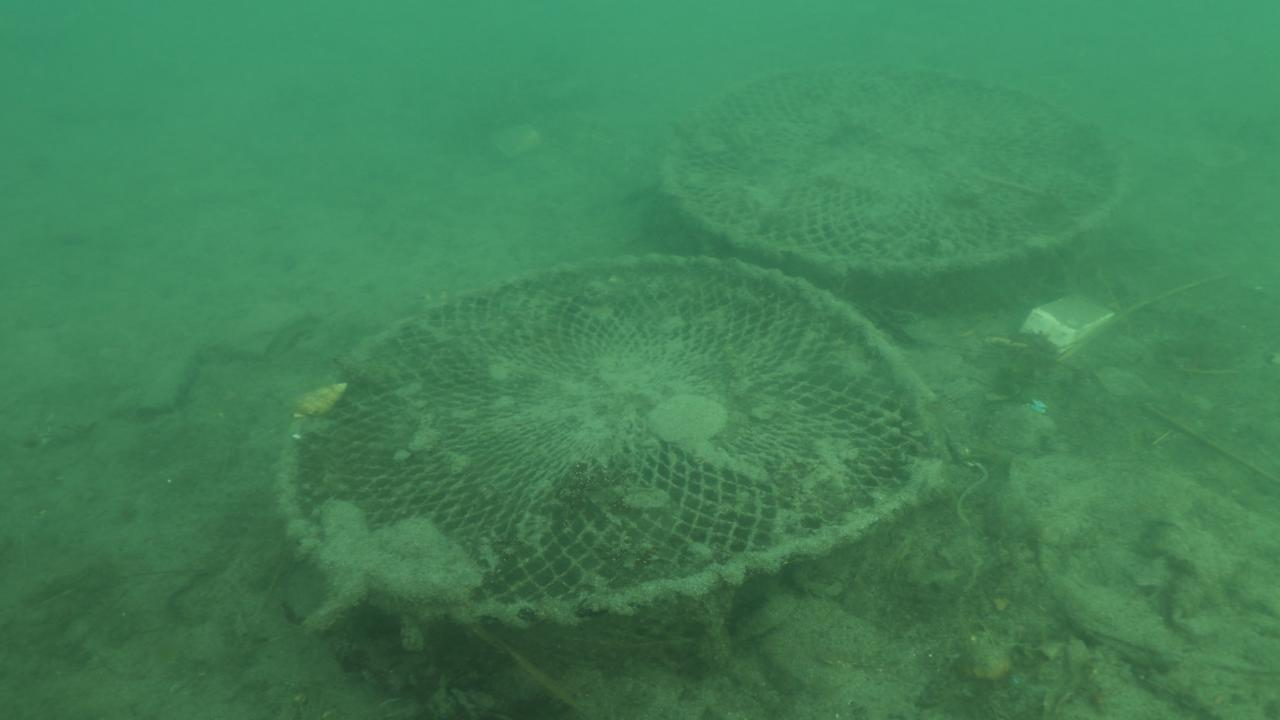circular fish trap: (268, 248, 956, 637), (660, 52, 1138, 288)
